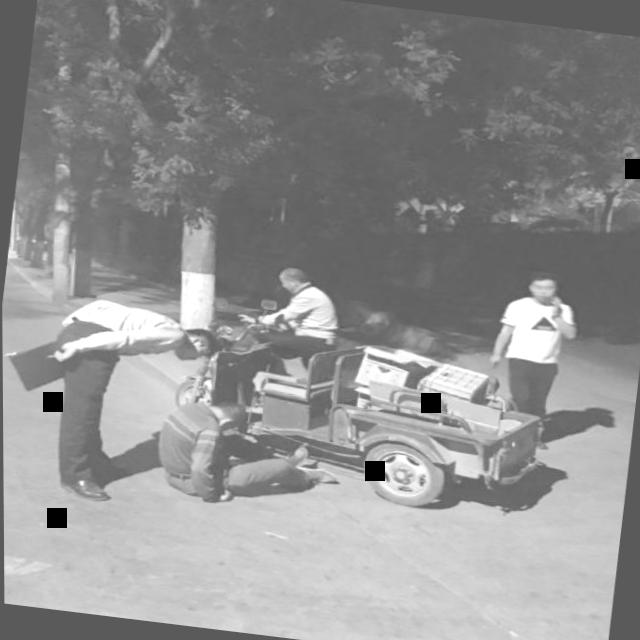Fall-Detected: (141, 382, 350, 517)
